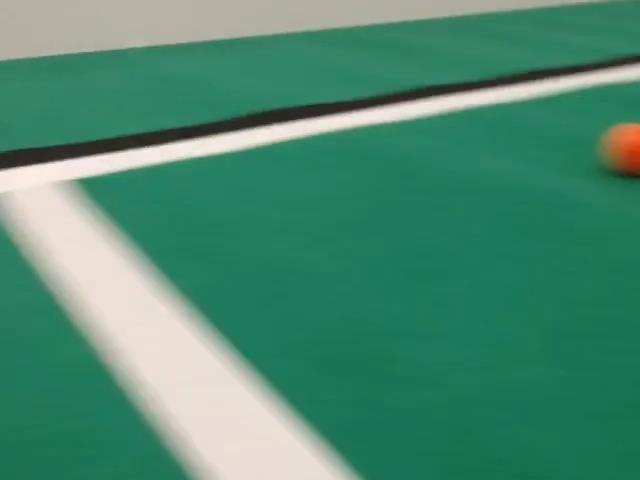Ball: (598, 123, 640, 177)
